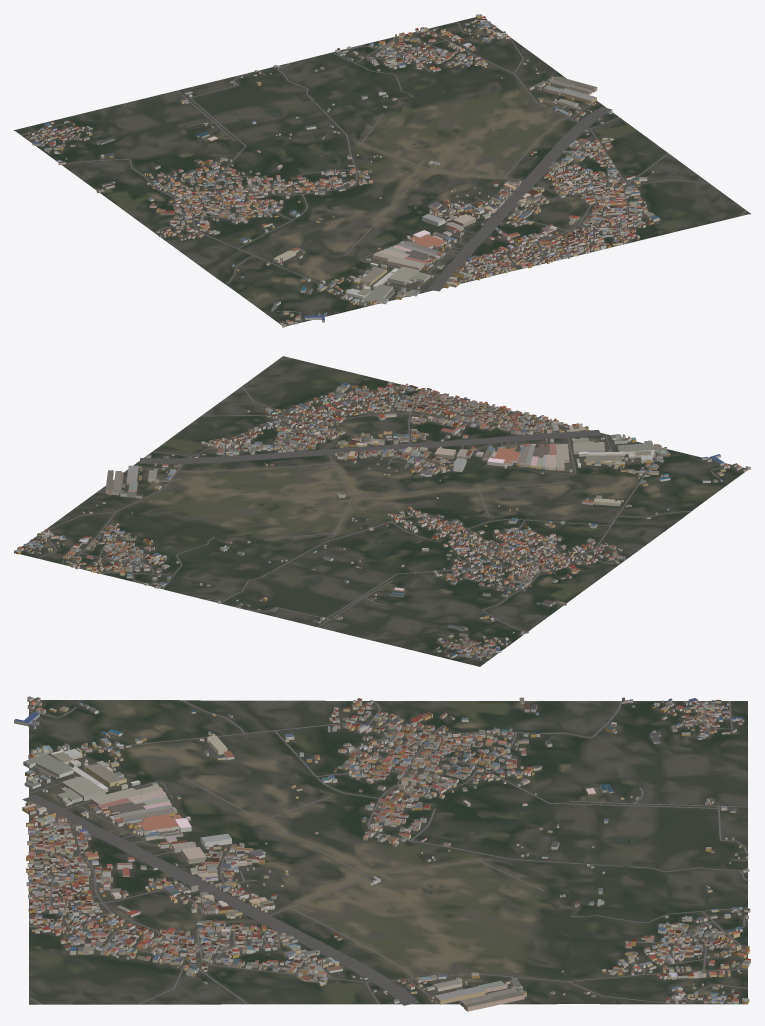
3 views of the same model, one above another, from view 1: azimuth 30°, elevation 25°; view 2: azimuth 150°, elevation 25°; view 3: azimuth 270°, elevation 25° (orthographic). The views are drawn at different scales.
Parts seen in each view (by area): view 1: ground, buildings, roads; view 2: ground, buildings, roads; view 3: ground, buildings, roads.
Part boxes in pixels (x1,y1,x2,y2): ground: [14, 17, 750, 325]; buildings: [26, 14, 659, 327]; roads: [21, 21, 746, 322]; ground: [14, 356, 747, 666]; buildings: [14, 382, 750, 659]; roads: [34, 358, 731, 661]; ground: [29, 700, 747, 1004]; buildings: [14, 696, 750, 1011]; roads: [22, 700, 748, 1005].
Bounding box in the file's own units: 1439 × 16.82 × 1437.
